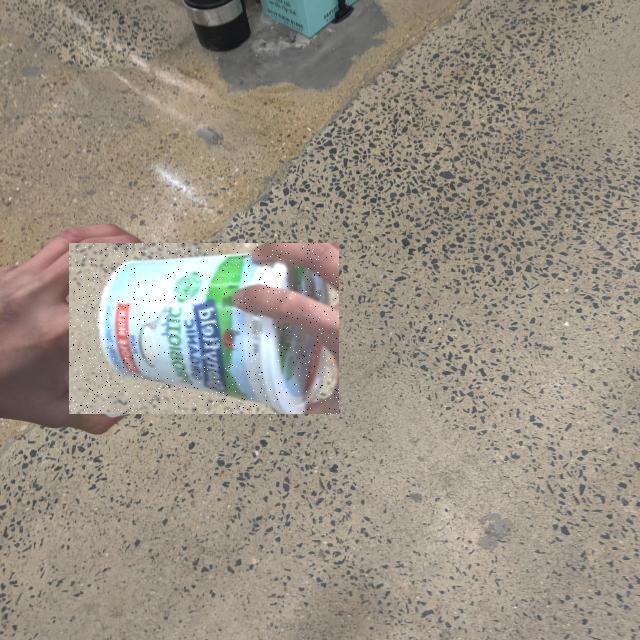Yoghurt: (69, 243, 339, 414)
